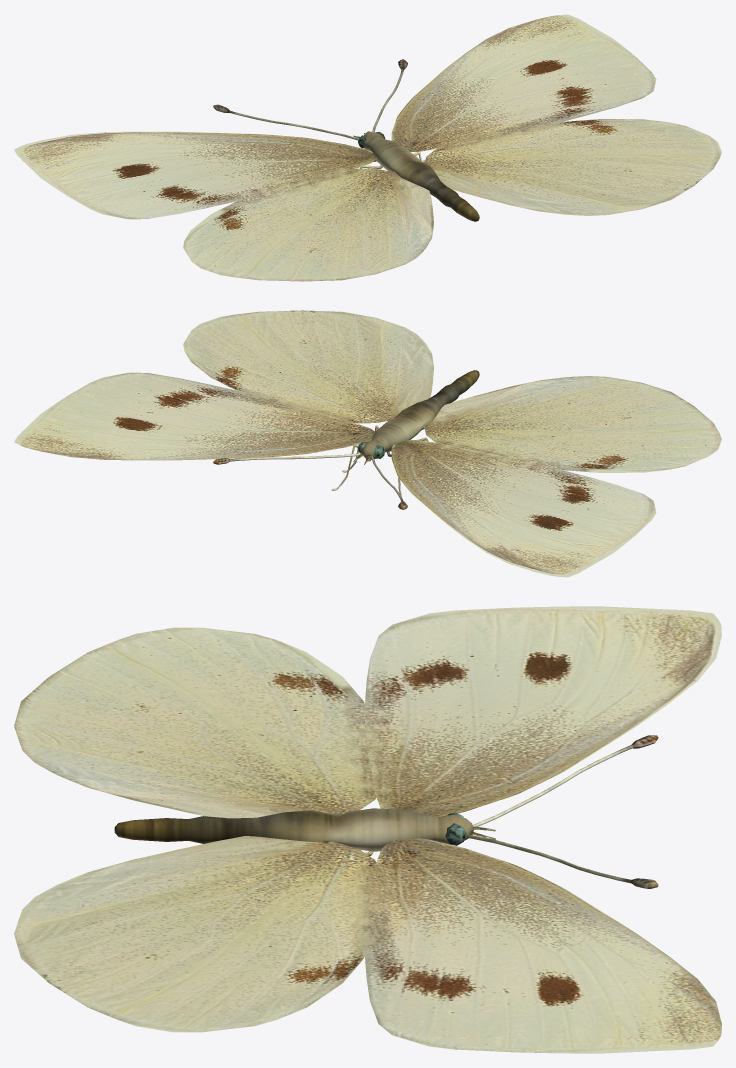
File: butterfly12.glb
The picture shows the model from 3 angles, top to bottom: view 1: azimuth 30°, elevation 25°; view 2: azimuth 150°, elevation 25°; view 3: azimuth 270°, elevation 25°; orthographic projection. The views are drawn at different scales.
Parts seen in each view (by area): view 1: Object_2; view 2: Object_2; view 3: Object_2.
Part boxes in pixels (bbox=[...]): Object_2: bbox=[14, 14, 721, 281]; Object_2: bbox=[14, 310, 721, 577]; Object_2: bbox=[14, 606, 721, 1053].
Bounding box in the file's own units: 8.16 × 0.8247 × 5.46.
Materials: 1 (1 with a texture image).
